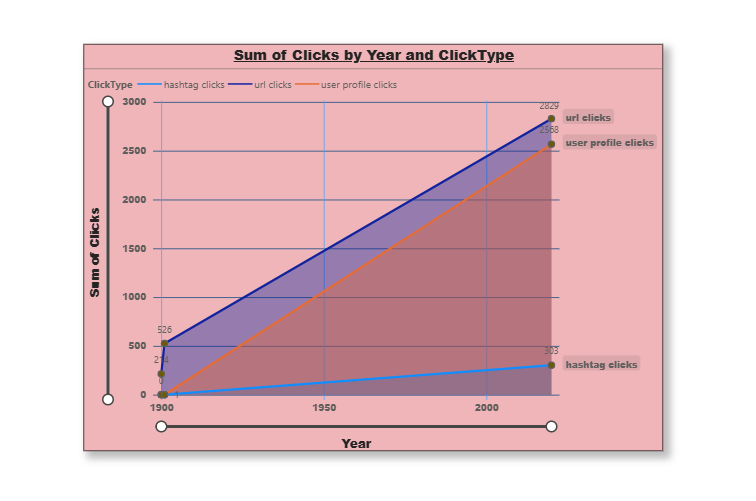

The page's visual inventory and layout, read from the dashboard file:
{"tool":"powerbi","page":{"name":"Engagement Trends Over Time","canvas":[1280,720],"ordinal":2},"visuals":[{"type":"lineChart","fields":{"Category":["Tweets.time.Variation.Date Hierarchy.Year","Tweets.time.Variation.Date Hierarchy.Quarter","Tweets.time.Variation.Date Hierarchy.Month","Tweets.time.Variation.Date Hierarchy.Day"],"Series":["Tweets.ClickType"],"Y":["Sum(Tweets.Clicks)"]},"box":[266.5,79.4,772.9,542.4],"z":0}]}

Visuals, with their boxes on the page's 1280x720 design canvas (x1, y1, x2, y2). These are canvas units, not pixel positions in the 756x501 screenshot, which may show the page scaled, cropped or inside an application window:
lineChart - Tweets.time.Variation.Date Hierarchy.Year x Tweets.time.Variation.Date Hierarchy.Quarter: (266, 79, 1039, 622)
